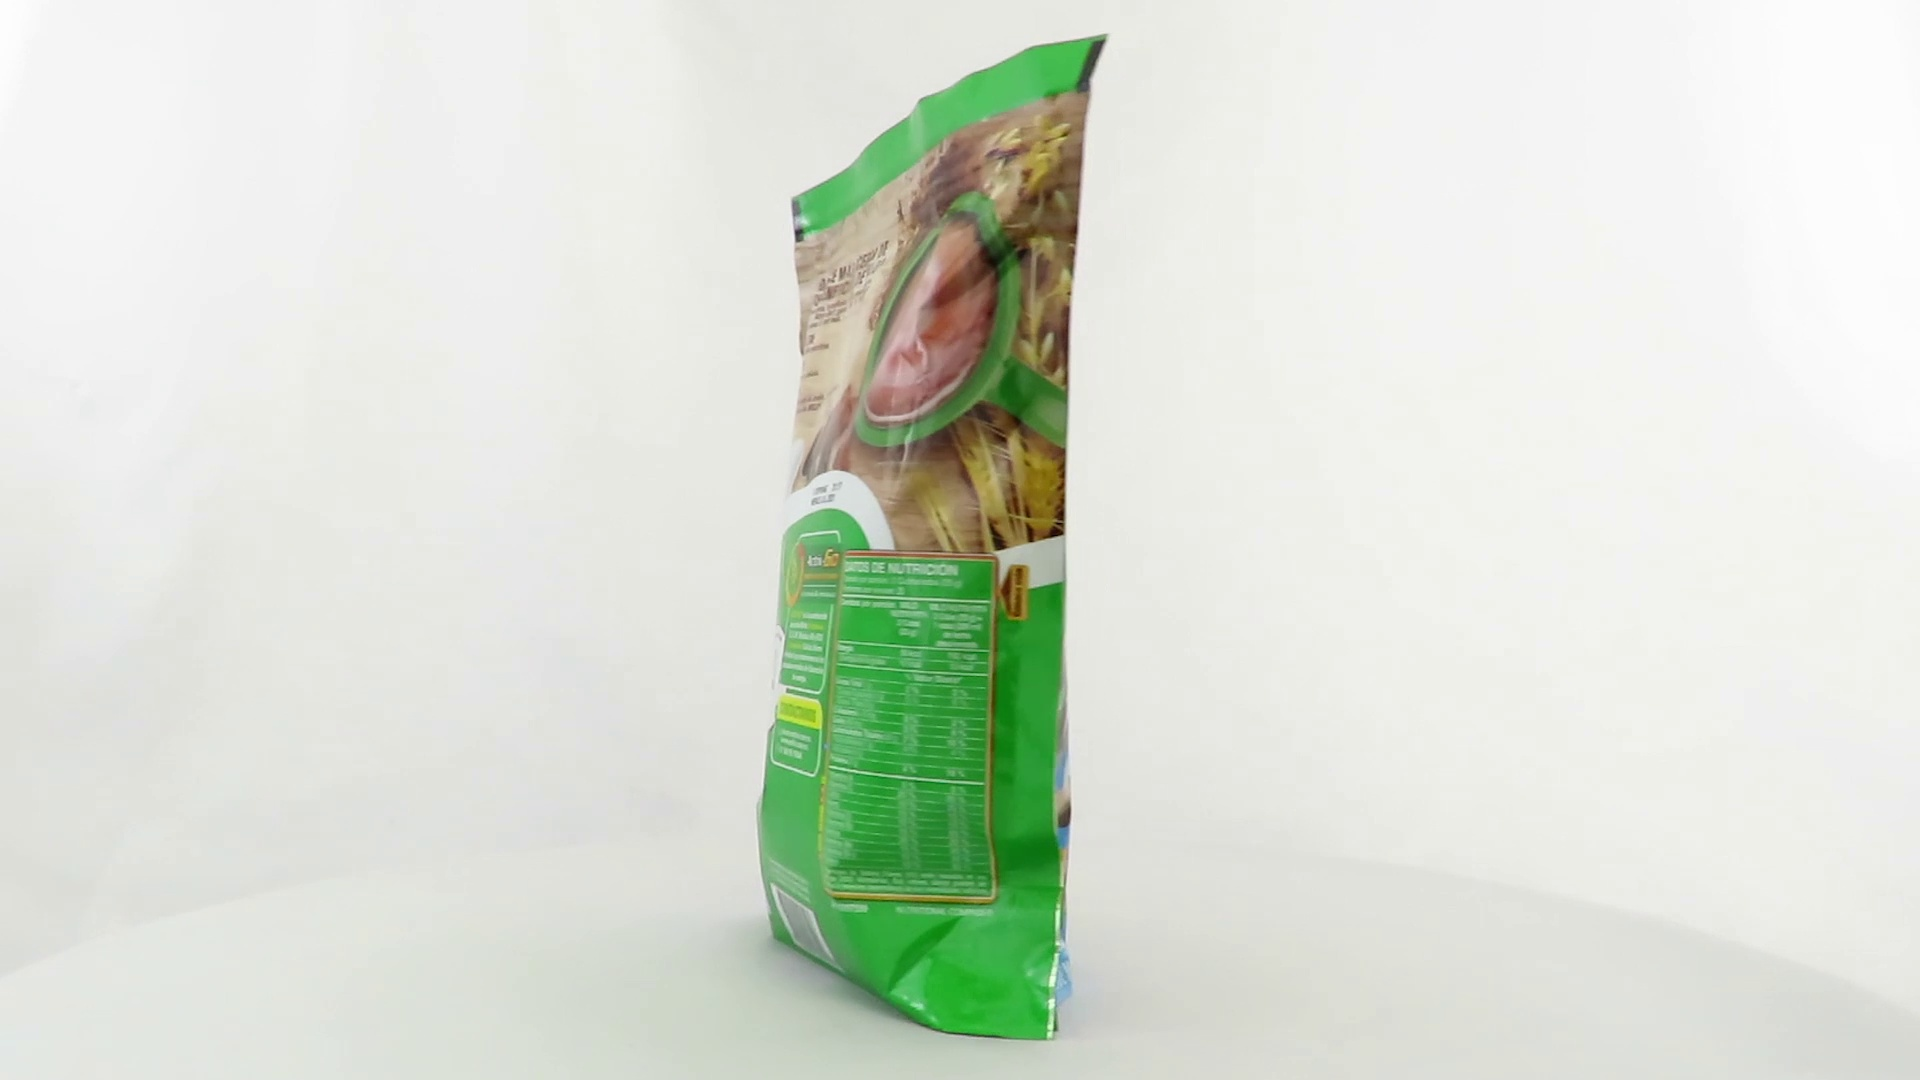COL0170205DYP50000: (752, 28, 1114, 1047)
